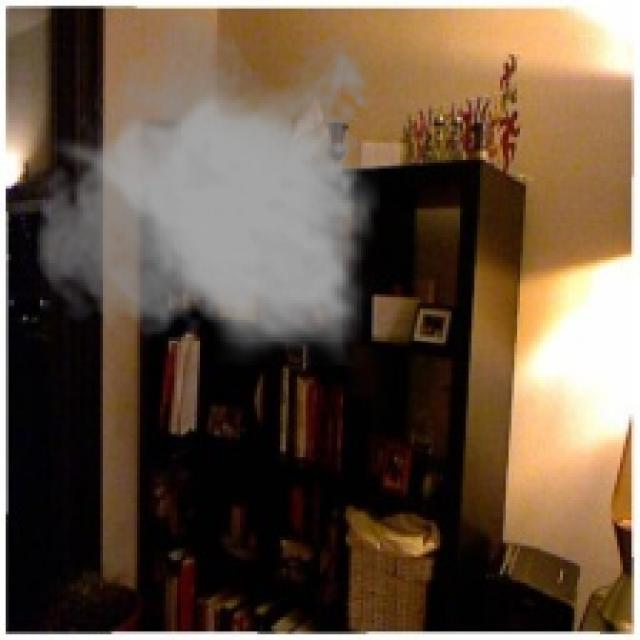Smoke: (31, 11, 380, 366)
